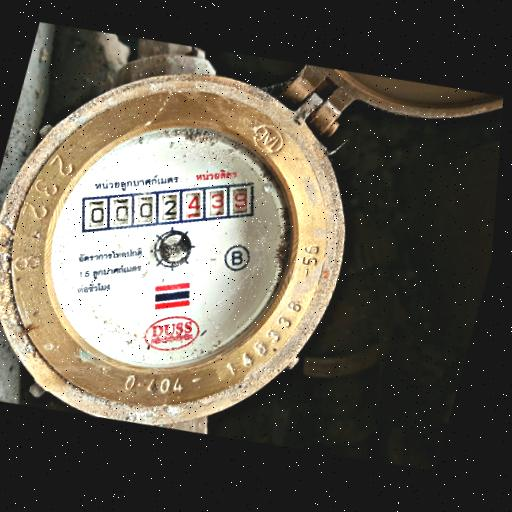0: (131, 193, 159, 225), (83, 198, 110, 230), (108, 196, 135, 227)
2: (156, 192, 183, 224)
3: (203, 187, 229, 218)
4: (180, 189, 206, 221)
9: (225, 186, 252, 217)
border_water_meter_number: (70, 149, 264, 265)
